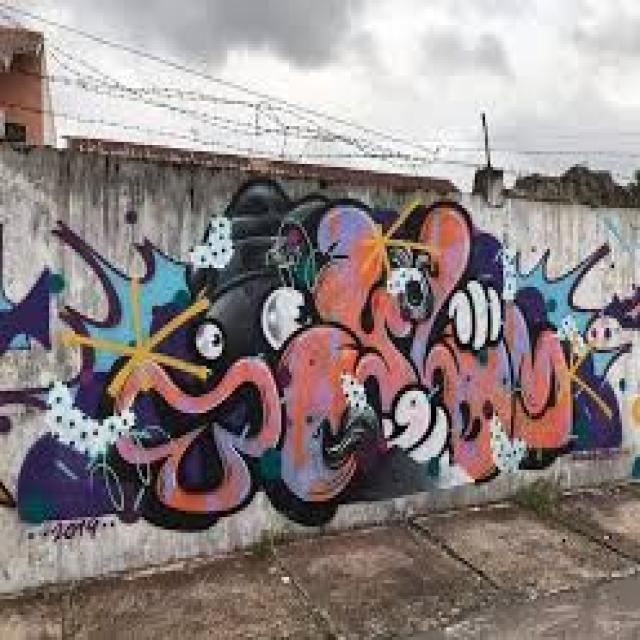-: (0, 178, 640, 525)
